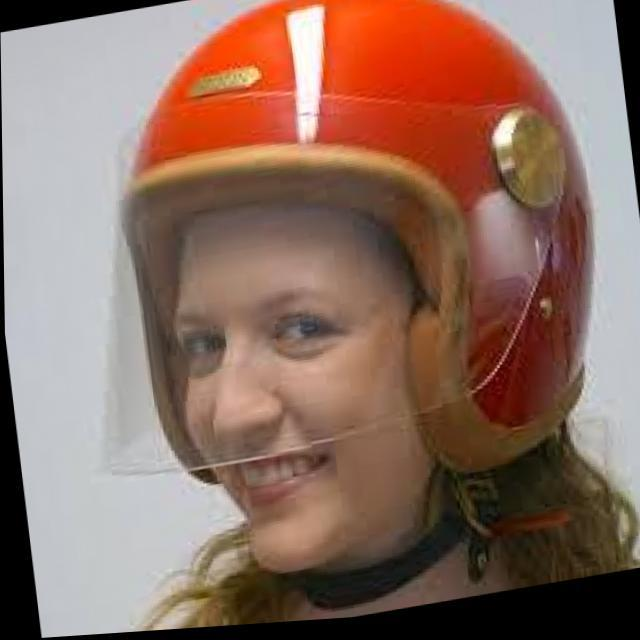Helmet: (77, 0, 609, 592)
